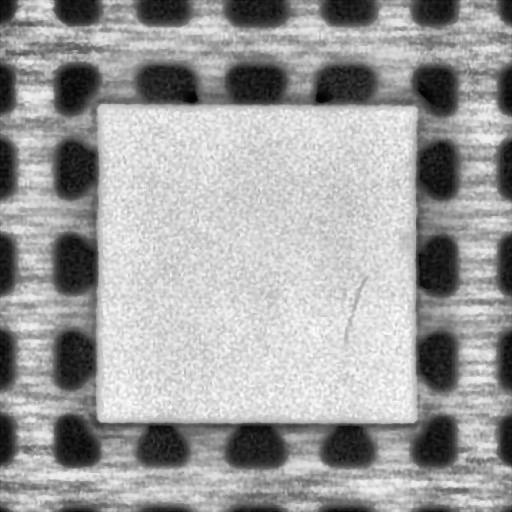DIE_CRACK: (341, 274, 366, 340)
